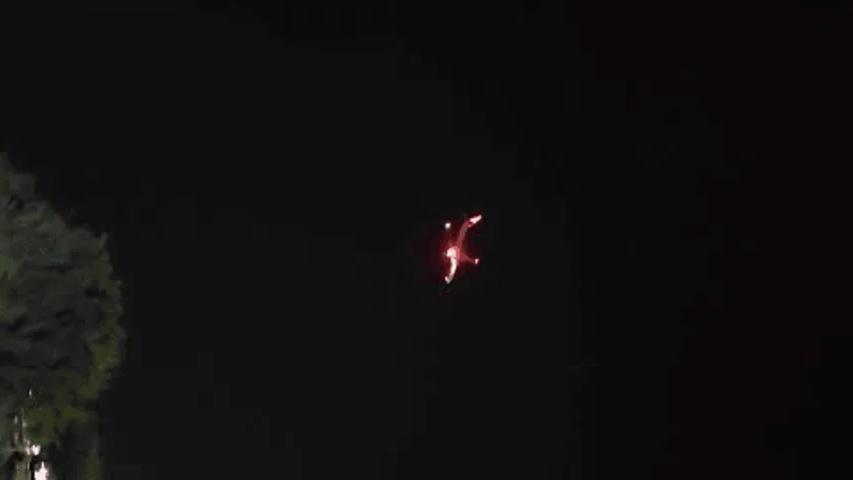Plane: (379, 180, 533, 313)
